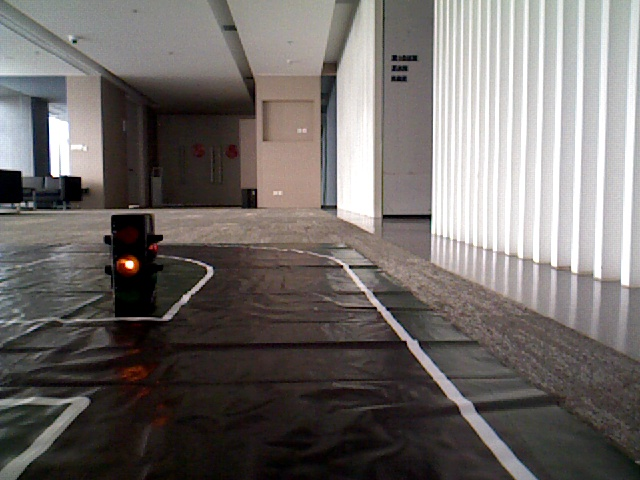yellow: (110, 217, 150, 299)
